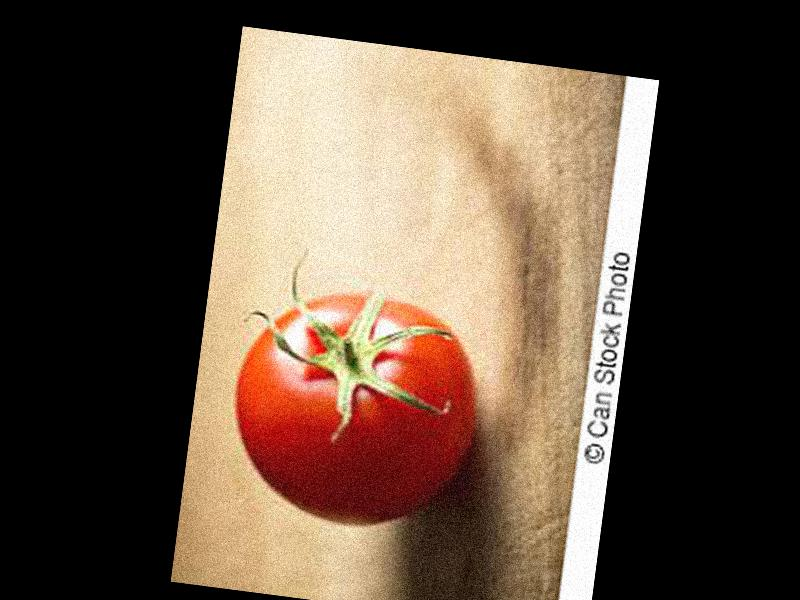Tomato: (225, 277, 488, 537)
